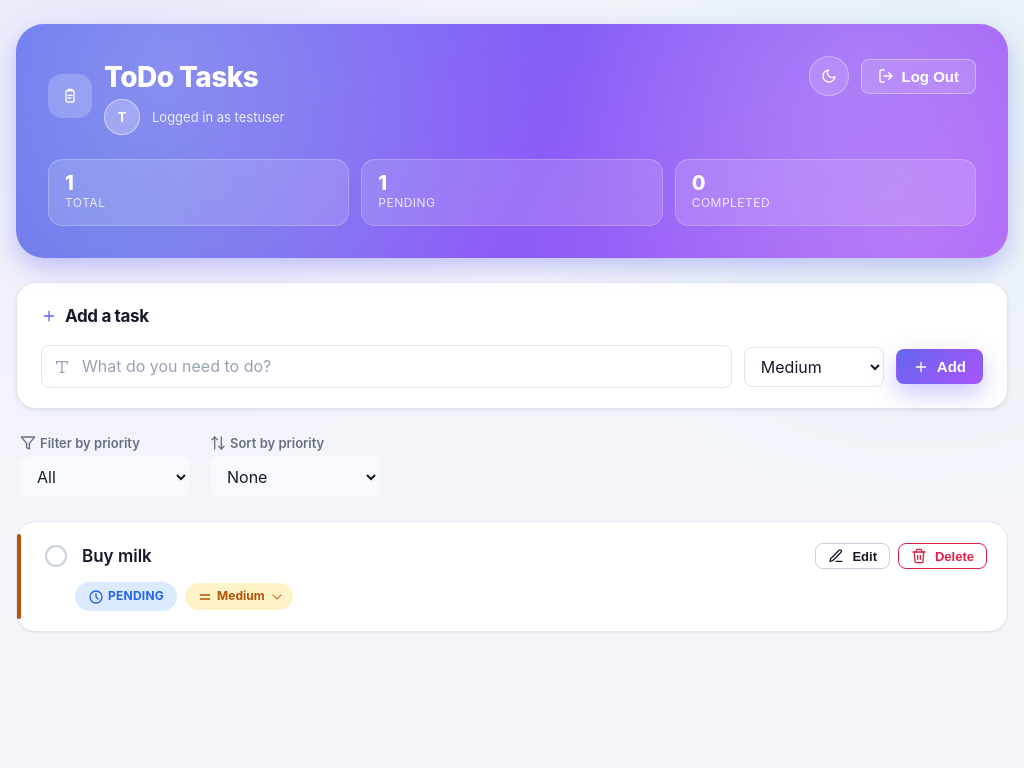
Scenario: App › deletes a task
The image size is (1024, 768).
Expected: the text "Buy milk" is shown, [82,546,152,566]
Click the button "Delete" at (942, 556), box [898,543,987,569]
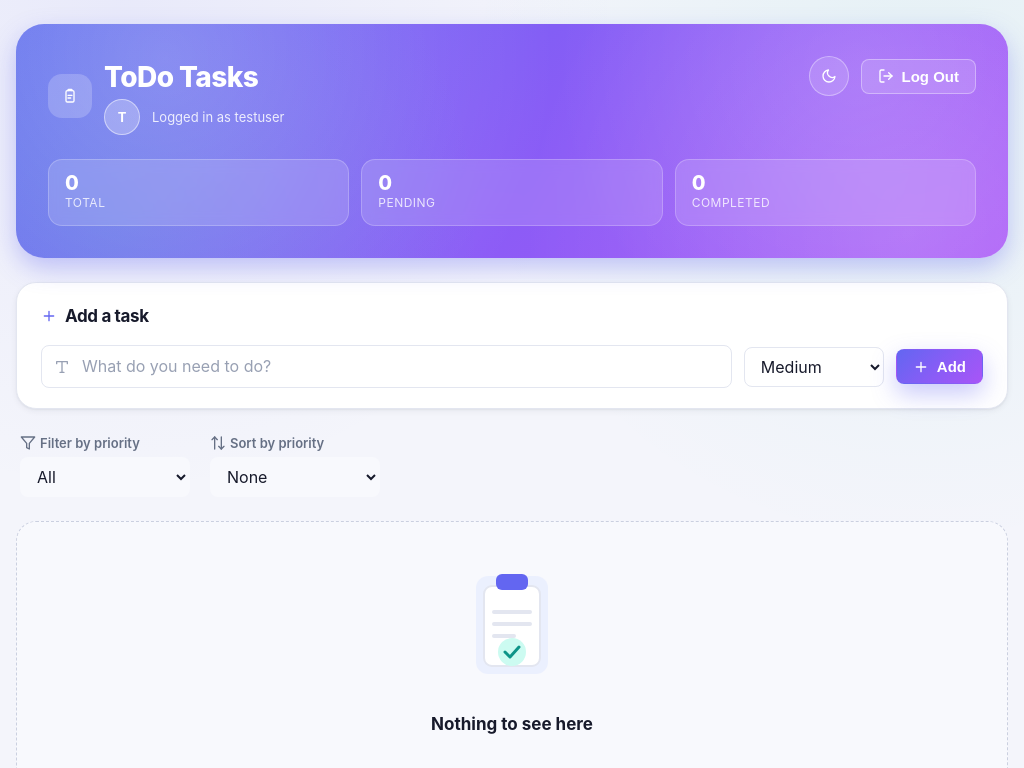
Result: the text "Buy milk" is gone
